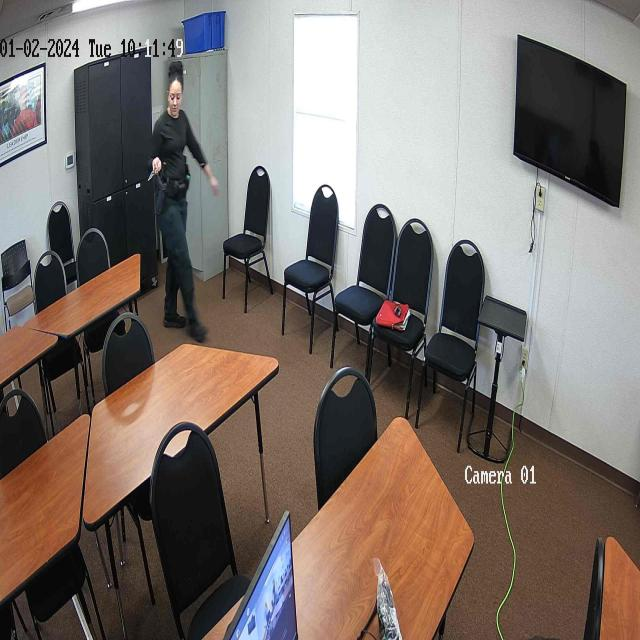weapon: (152, 171, 166, 215)
